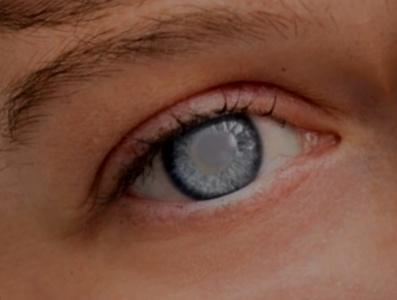eye: (162, 115, 263, 200)
